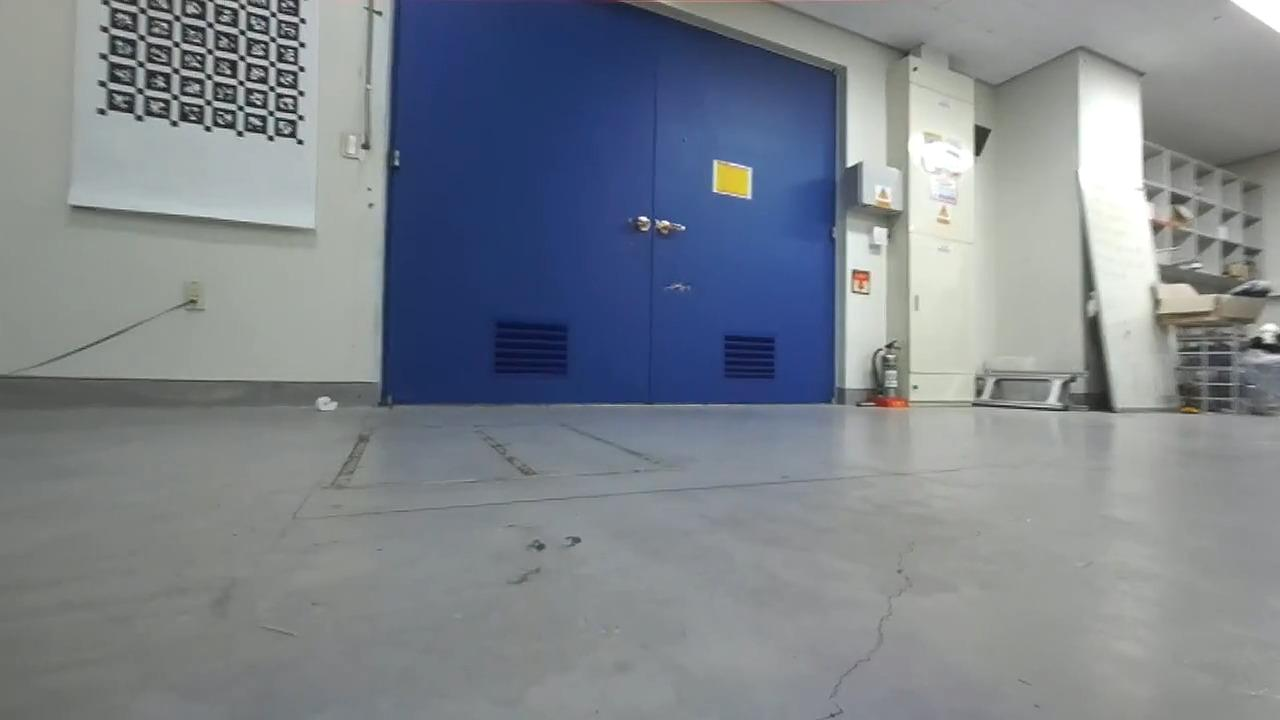crazyflie: (651, 275, 705, 299)
